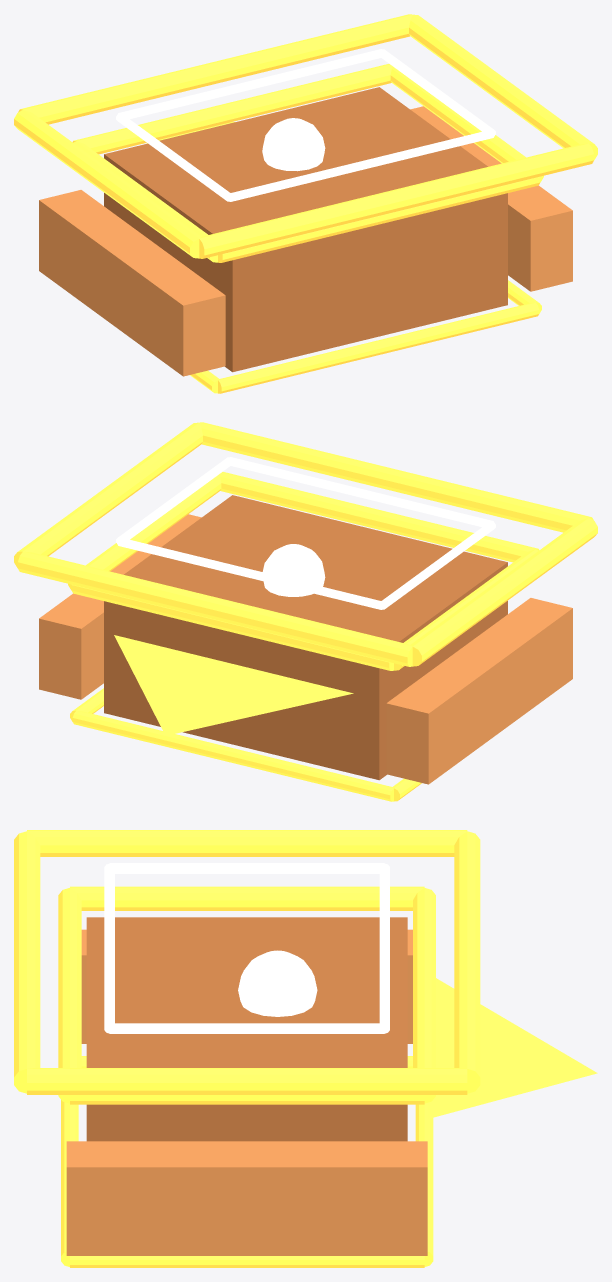
File: tank.glb
3 views of the same model, one above another, from view 1: azimuth 30°, elevation 25°; view 2: azimuth 150°, elevation 25°; view 3: azimuth 270°, elevation 25° (orthographic). The views are drawn at different scales.
Visible parts, largest first — view 1: TankHeavyDarkPrismBody, TankLeftTreadSlab, TankReadabilityTopOrangeRoute0, TankReadabilityTopOrangeRoute2, TankRightTreadSlab, TankTopEdge2, TankReadabilityTopOrangeRoute3, TankBottomEdge0, TankReadabilityTopOrangeRoute1, TankTopEdge0, TankWhiteCore, TankReadabilityWhiteInnerRoute0 (+5 smaller); view 2: TankHeavyDarkPrismBody, TankLeftTreadSlab, TankForwardSiegePlow, TankReadabilityTopOrangeRoute2, TankReadabilityTopOrangeRoute0, TankRightTreadSlab, TankTopEdge0, TankReadabilityTopOrangeRoute3, TankBottomEdge2, TankReadabilityTopOrangeRoute1, TankTopEdge2, TankReadabilityWhiteInnerRoute2 (+6 smaller); view 3: TankHeavyDarkPrismBody, TankRightTreadSlab, TankReadabilityTopOrangeRoute1, TankReadabilityTopOrangeRoute3, TankForwardSiegePlow, TankTopEdge3, TankReadabilityTopOrangeRoute2, TankReadabilityTopOrangeRoute0, TankTopEdge0, TankBottomEdge1, TankWhiteCore, TankTopEdge2 (+8 smaller).
Boxes of the visible parts, left/top/right/bottom form: TankHeavyDarkPrismBody: left=104, top=87, right=507, bottom=372; TankLeftTreadSlab: left=39, top=190, right=225, bottom=376; TankReadabilityTopOrangeRoute0: left=199, top=143, right=594, bottom=258; TankReadabilityTopOrangeRoute2: left=18, top=14, right=412, bottom=124; TankRightTreadSlab: left=410, top=106, right=572, bottom=291; TankTopEdge2: left=72, top=64, right=392, bottom=154; TankReadabilityTopOrangeRoute3: left=14, top=110, right=200, bottom=258; TankBottomEdge0: left=218, top=302, right=539, bottom=393; TankReadabilityTopOrangeRoute1: left=409, top=14, right=597, bottom=159; TankTopEdge0: left=218, top=176, right=540, bottom=262; TankWhiteCore: left=262, top=118, right=325, bottom=171; TankReadabilityWhiteInnerRoute0: left=229, top=130, right=494, bottom=201; TankHeavyDarkPrismBody: left=104, top=495, right=507, bottom=780; TankLeftTreadSlab: left=386, top=598, right=572, bottom=784; TankForwardSiegePlow: left=114, top=635, right=353, bottom=735; TankReadabilityTopOrangeRoute2: left=17, top=551, right=412, bottom=666; TankReadabilityTopOrangeRoute0: left=199, top=422, right=593, bottom=532; TankRightTreadSlab: left=39, top=514, right=201, bottom=699; TankTopEdge0: left=219, top=472, right=539, bottom=562; TankReadabilityTopOrangeRoute3: left=411, top=518, right=597, bottom=666; TankBottomEdge2: left=72, top=710, right=393, bottom=801; TankReadabilityTopOrangeRoute1: left=14, top=422, right=202, bottom=567; TankTopEdge2: left=71, top=584, right=393, bottom=670; TankReadabilityWhiteInnerRoute2: left=117, top=538, right=382, bottom=609; TankHeavyDarkPrismBody: left=86, top=917, right=407, bottom=1141; TankRightTreadSlab: left=66, top=1141, right=427, bottom=1255; TankReadabilityTopOrangeRoute1: left=27, top=1068, right=467, bottom=1094; TankReadabilityTopOrangeRoute3: left=27, top=830, right=467, bottom=856; TankForwardSiegePlow: left=427, top=978, right=597, bottom=1119; TankTopEdge3: left=70, top=886, right=424, bottom=910; TankReadabilityTopOrangeRoute2: left=454, top=831, right=480, bottom=1093; TankReadabilityTopOrangeRoute0: left=14, top=831, right=40, bottom=1093; TankTopEdge0: left=58, top=888, right=81, bottom=1103; TankBottomEdge1: left=70, top=1256, right=424, bottom=1267; TankWhiteCore: left=238, top=950, right=317, bottom=1016; TankTopEdge2: left=413, top=888, right=435, bottom=1103.
Size of the model in its own units: 2.16 by 0.9162 by 2.14.
